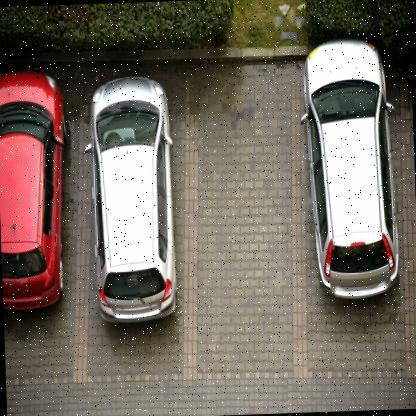Car: (301, 32, 404, 316), (89, 76, 183, 352), (0, 67, 70, 319)
Empty: (194, 62, 300, 370)
